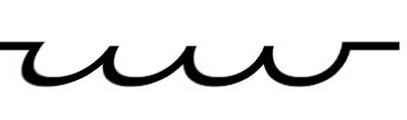inductor: (11, 13, 372, 103)
